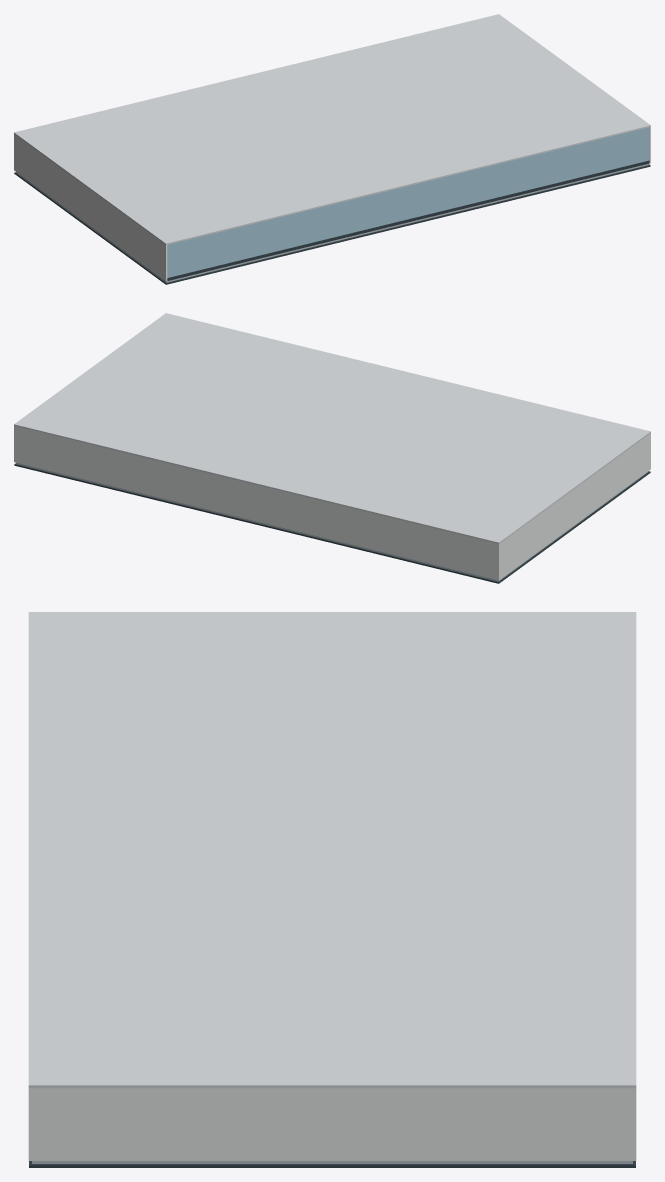
The model's file is campus.glb.
3 views of the same model, one above another, from view 1: azimuth 30°, elevation 25°; view 2: azimuth 150°, elevation 25°; view 3: azimuth 270°, elevation 25° (orthographic). The views are drawn at different scales.
Parts seen in each view (by area): view 1: Ceiling slab, Ceiling boundary front glass, Ceiling boundary side, Boundary side, Boundary front, Campus foundation, Campus floor; view 2: Ceiling slab, Ceiling boundary back, Boundary back, Ceiling boundary side, Boundary side, Campus foundation, Campus floor; view 3: Ceiling slab, Ceiling boundary side, Boundary side, Campus foundation, Campus floor.
Boxes of the visible parts, x1,y1,x2,y2 form: Ceiling slab: [14, 14, 650, 244]; Ceiling boundary front glass: [167, 127, 649, 277]; Ceiling boundary side: [14, 134, 167, 264]; Boundary side: [14, 153, 167, 281]; Boundary front: [167, 160, 649, 280]; Campus foundation: [14, 164, 650, 284]; Campus floor: [16, 164, 648, 282]; Ceiling slab: [14, 313, 650, 543]; Ceiling boundary back: [15, 426, 497, 562]; Boundary back: [15, 445, 497, 579]; Ceiling boundary side: [497, 433, 650, 563]; Boundary side: [497, 452, 650, 580]; Campus foundation: [14, 463, 650, 583]; Campus floor: [16, 463, 648, 581]; Ceiling slab: [28, 612, 636, 1088]; Ceiling boundary side: [28, 1088, 636, 1126]; Boundary side: [28, 1126, 636, 1160]; Campus foundation: [29, 1161, 635, 1167]; Campus floor: [32, 1161, 632, 1163].
Bounding box in the file's own units: 101 × 8.2 × 54.6.
